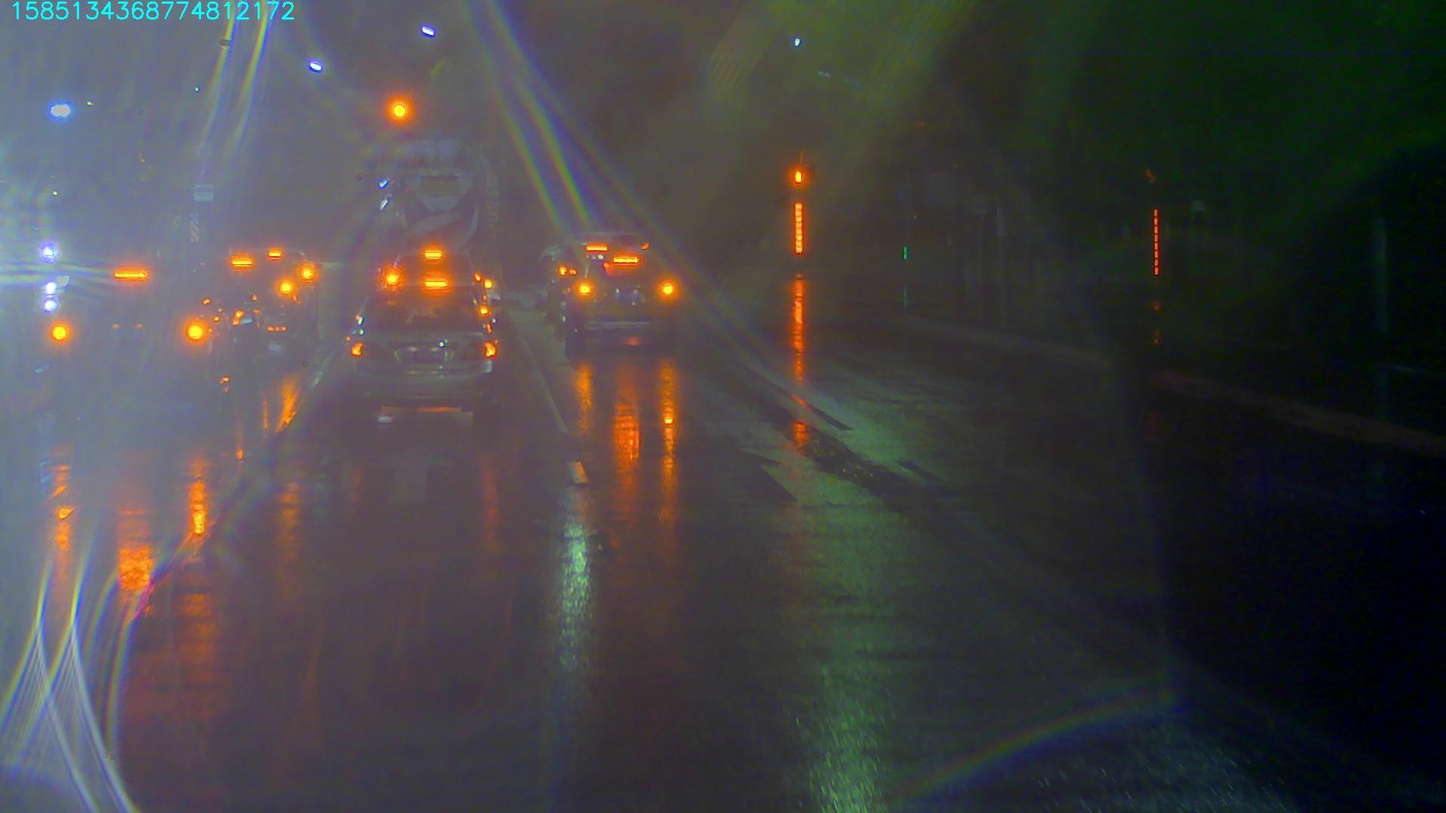red: (387, 94, 408, 120)
